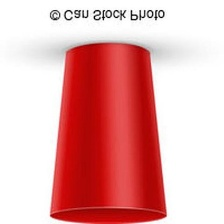glass: (46, 37, 171, 223)
